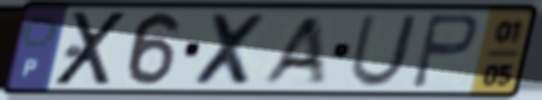6: (124, 9, 184, 89)
A: (255, 14, 328, 87)
P: (407, 12, 481, 92)
U: (345, 13, 422, 90)
X: (49, 9, 134, 89), (189, 11, 272, 90)
